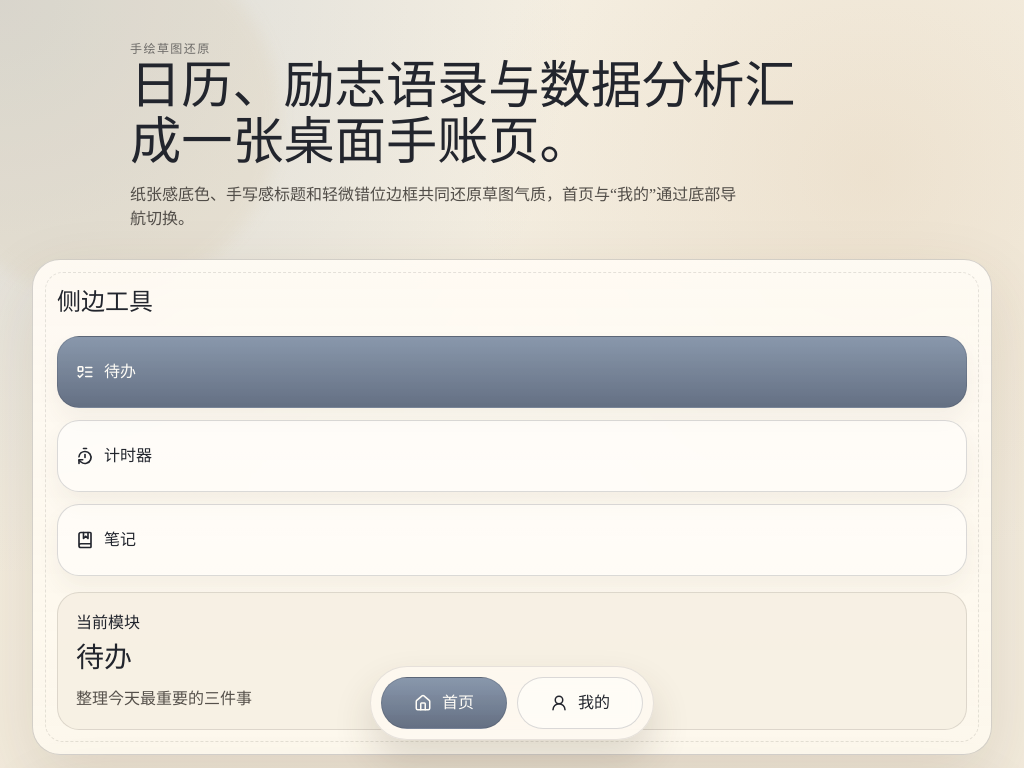
Test: Home page › switches side tool state and bottom tab view
The width and height of the screenshot is (1024, 768).
Click the button "笔记": coordinates (120, 539) 57,504 -> 967,576
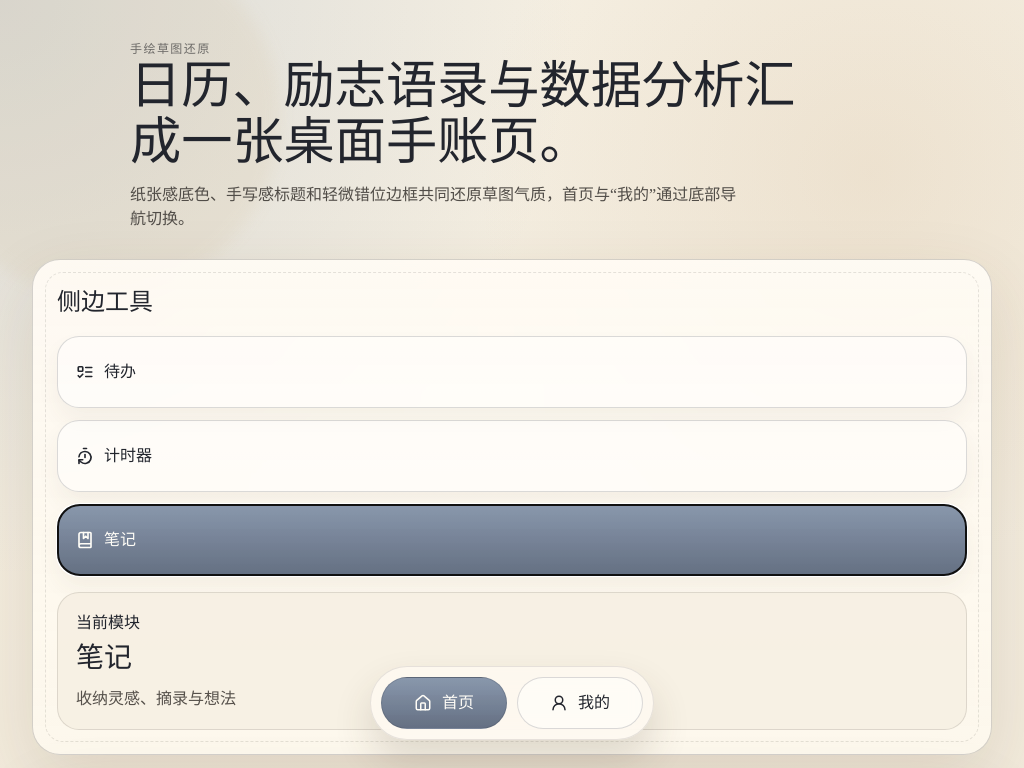
expect the text "收纳灵感、摘录与想法" is shown: met, box 76,690 -> 236,707
Click the button "我的": coordinates (580, 703) 517,677 -> 643,729
(page scrolled)
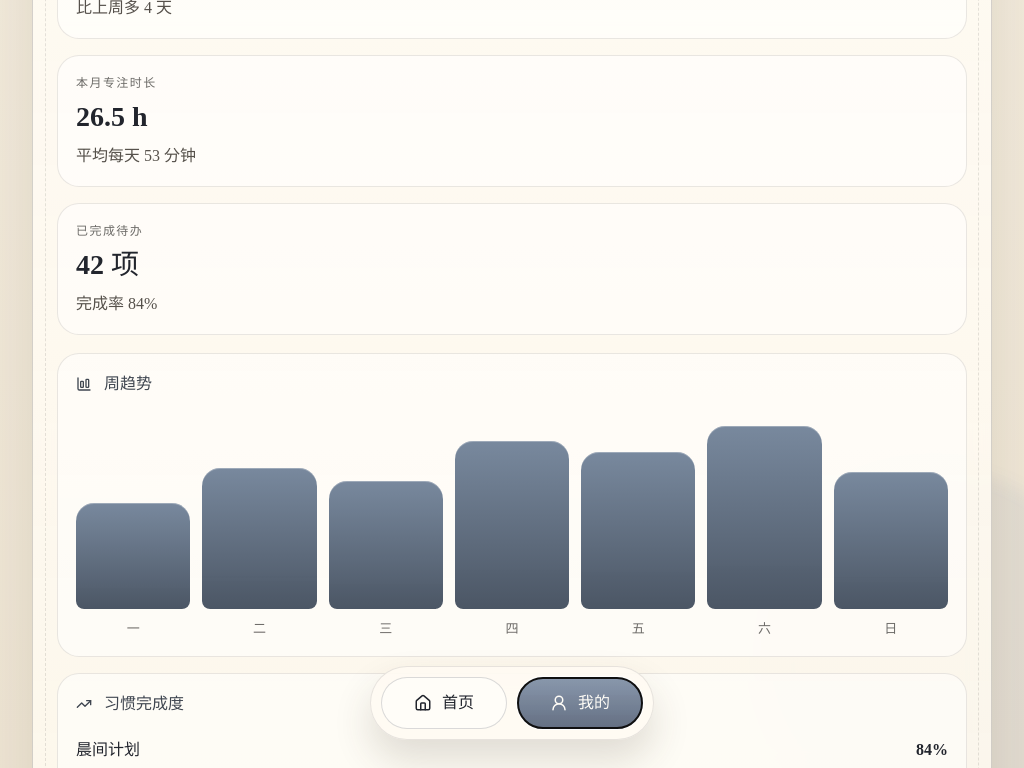
expect the text "周趋势" is shown: met, box 104,372 -> 152,396
